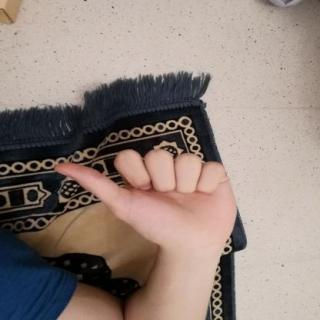DAD: (46, 140, 250, 258)
